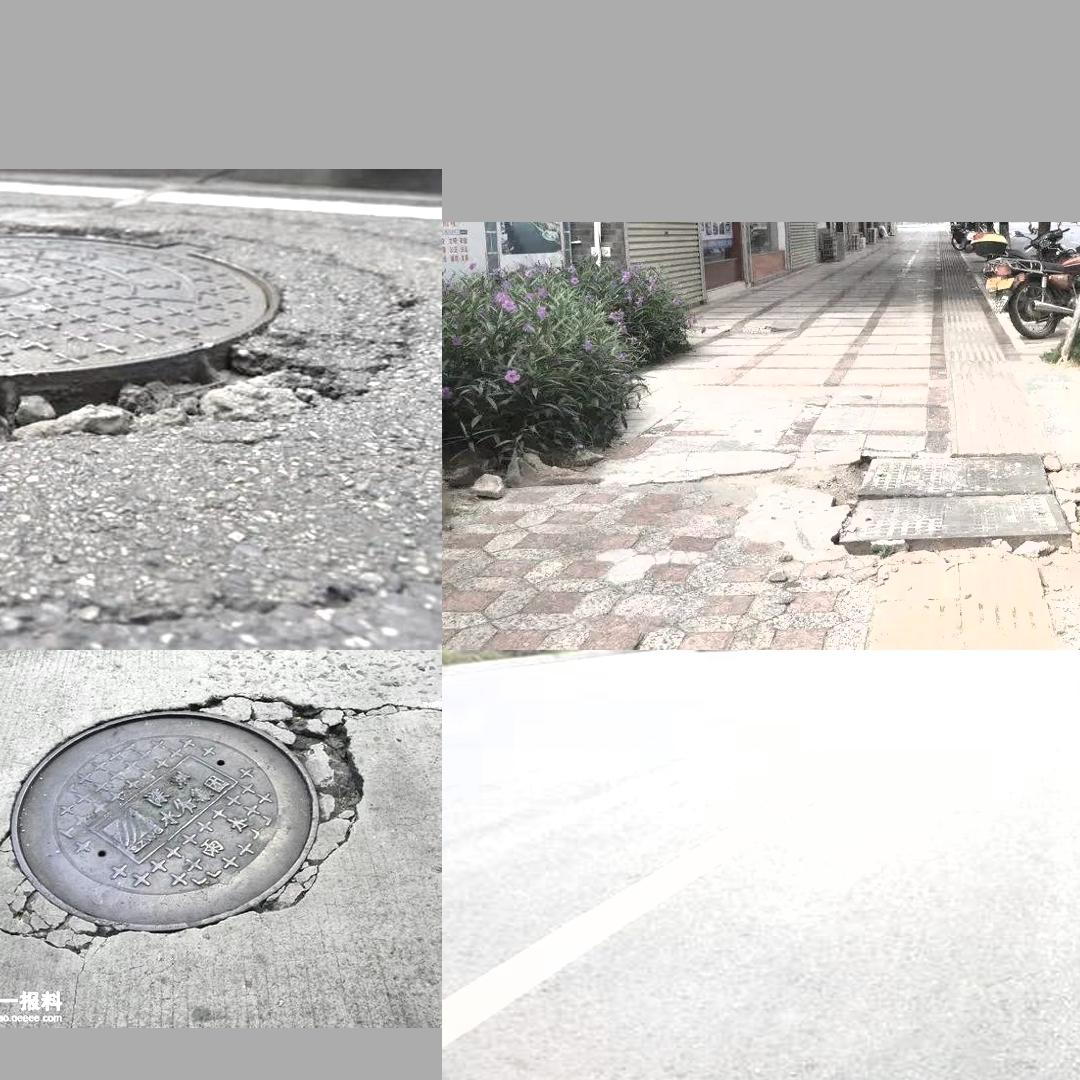circle: (0, 216, 409, 475), (0, 684, 371, 953), (791, 428, 1080, 601)
